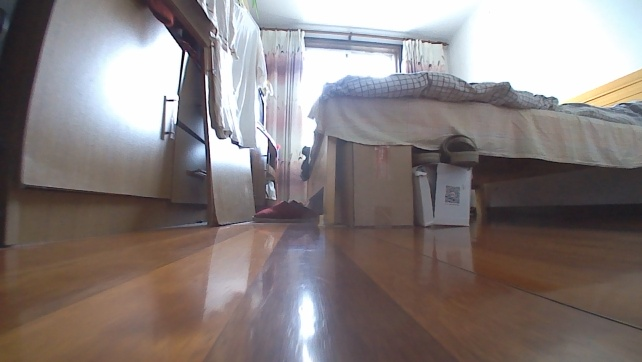bed: (297, 65, 641, 226)
shoe: (250, 196, 320, 226)
